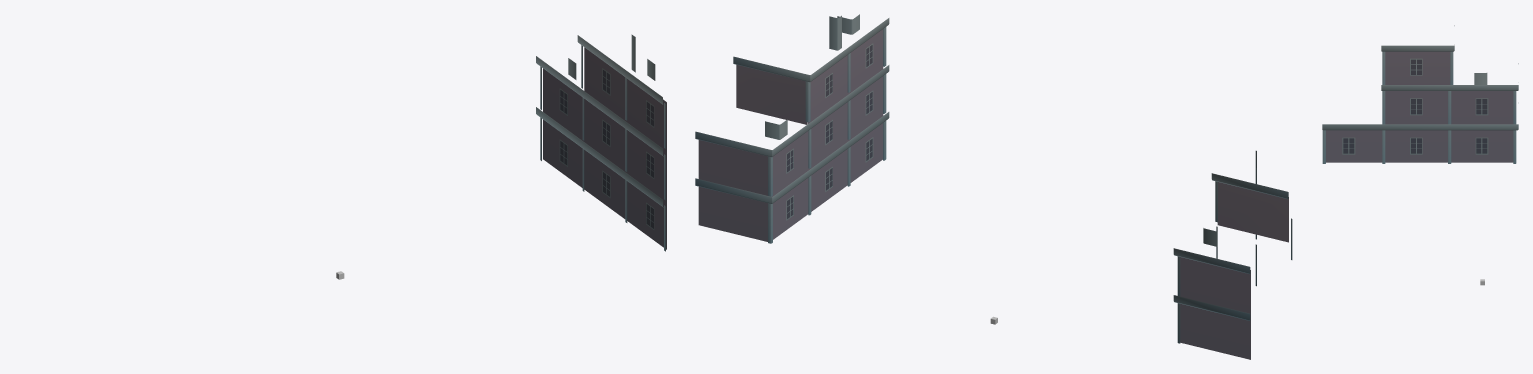
Rendered from FarBackBuilding03.glb.
The picture shows the model from 3 angles, left to right: view 1: azimuth 30°, elevation 25°; view 2: azimuth 150°, elevation 25°; view 3: azimuth 270°, elevation 25°; orthographic projection. The views are drawn at different scales.
Visible parts, largest first — view 1: FarBackBuilding03; view 2: FarBackBuilding03; view 3: FarBackBuilding03.
Boxes of the visible parts, x1,y1,x2,y2 form: FarBackBuilding03: (336,34,666,279); FarBackBuilding03: (695,14,1292,359); FarBackBuilding03: (1322,25,1518,285).
Bounding box in the file's own units: 76.34 × 27.96 × 27.83.
